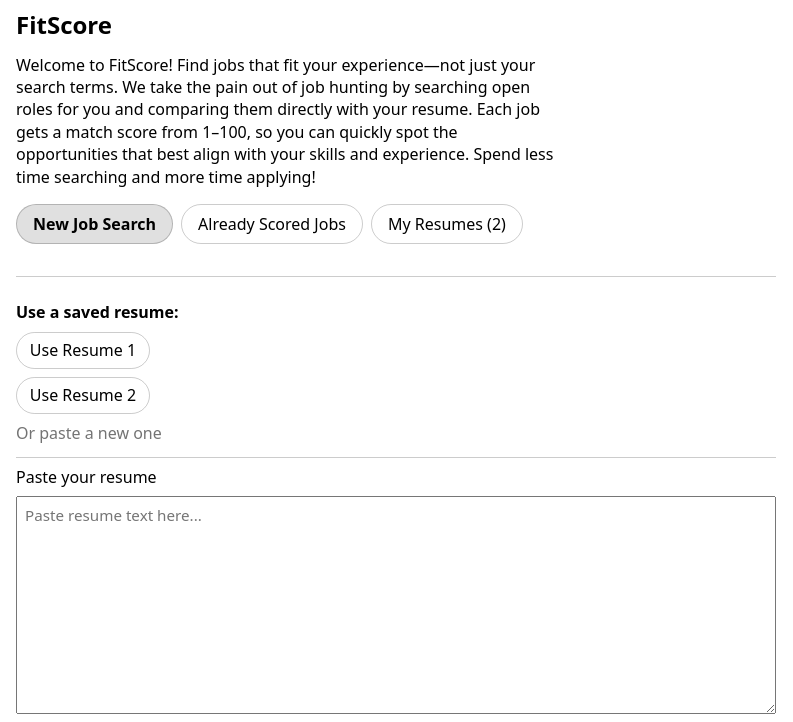
Scenario: App 'My Resumes' tab — renaming a resume (ticket e7666de) › shows a visible error and leaves the list showing the OLD name when the rename is rejected (collision)
Click the button "My Resumes (2)": coordinates (447, 224) x1=371 y1=204 x2=523 y2=244
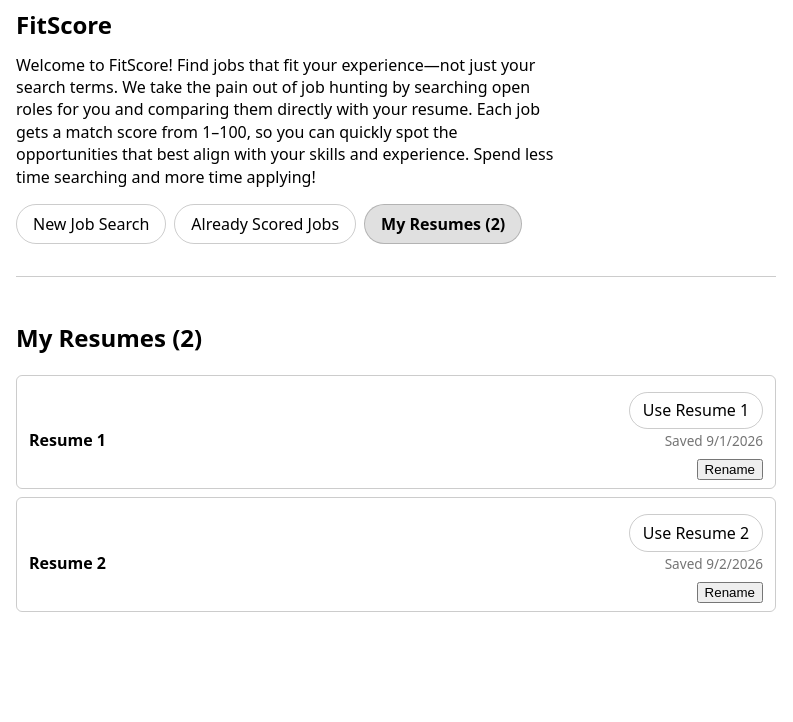
Click the button with aria-label "Rename Resume 1": coordinates (730, 470) x1=697 y1=459 x2=763 y2=480
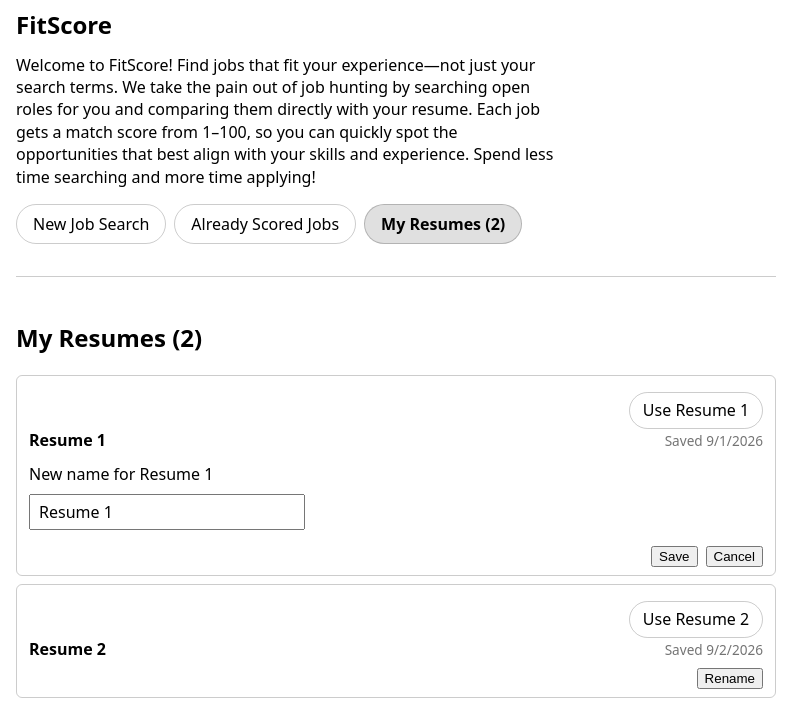
Replace the text in the field labelled "New name for Resume 1" with "Resume 2": coordinates (167, 512) x1=29 y1=494 x2=305 y2=530
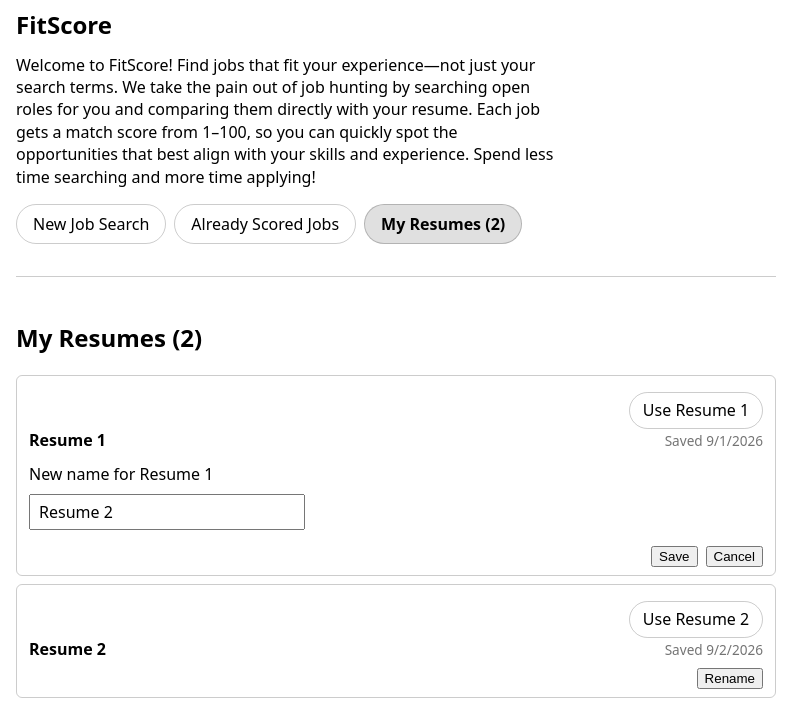
Click the button "Save": coordinates (674, 556) x1=651 y1=546 x2=698 y2=567
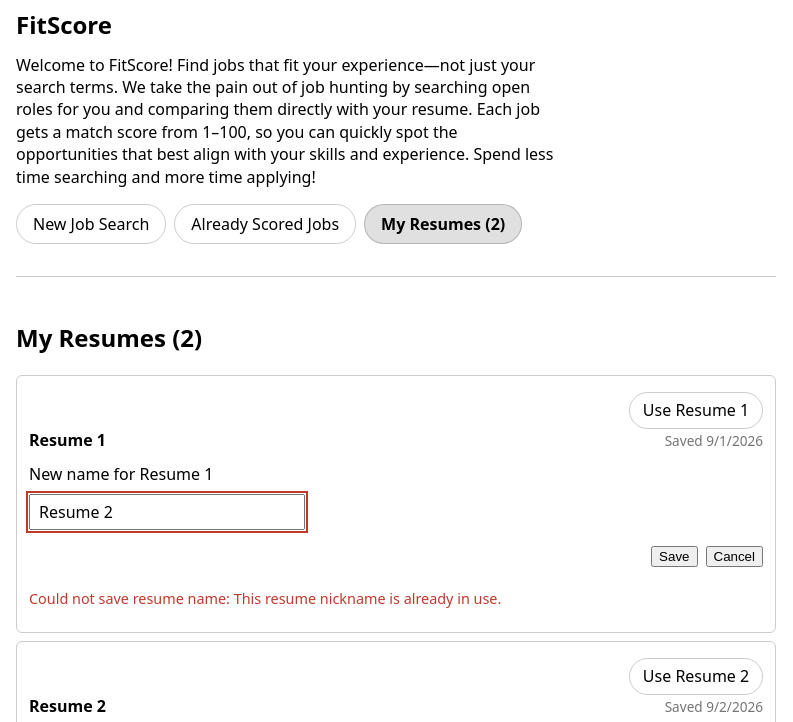
Expected: the text "Resume 2" is shown once, x1=29 y1=695 x2=106 y2=717
Expected: the message reads "Could not save resume name: This resume nickname is already in use.", x1=29 y1=589 x2=501 y2=608
